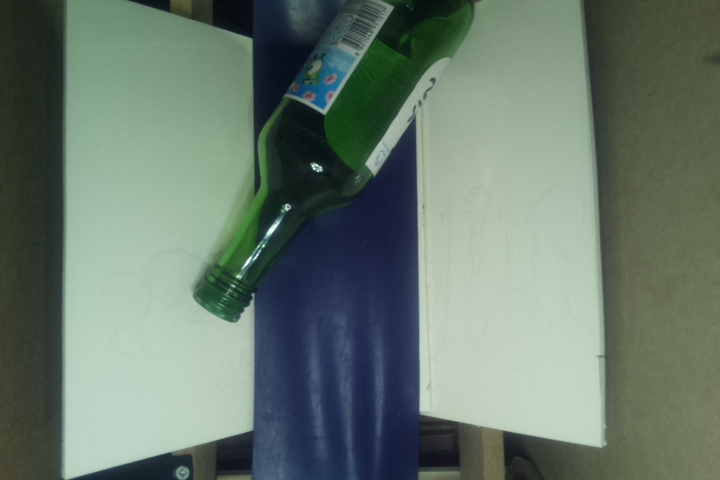soju: (193, 1, 478, 328)
